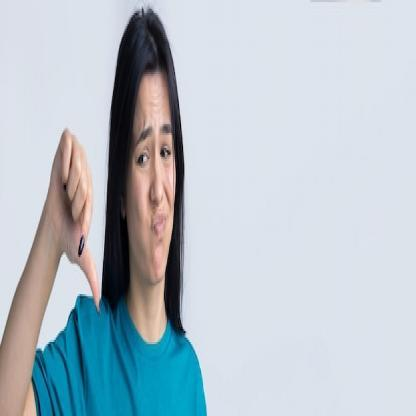thumb_down: (46, 117, 104, 318)
